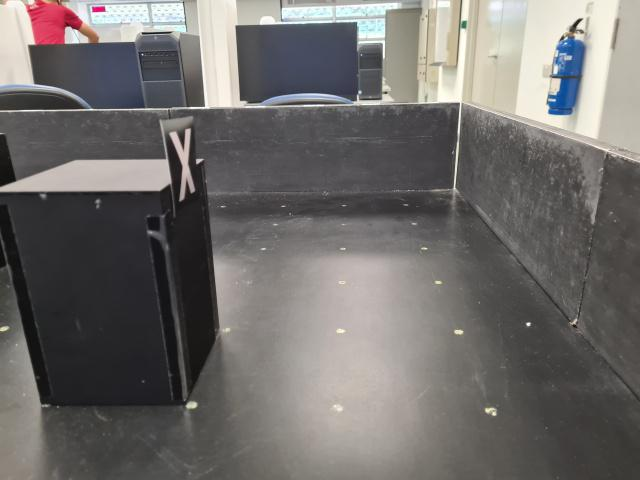x: (158, 115, 202, 221)
